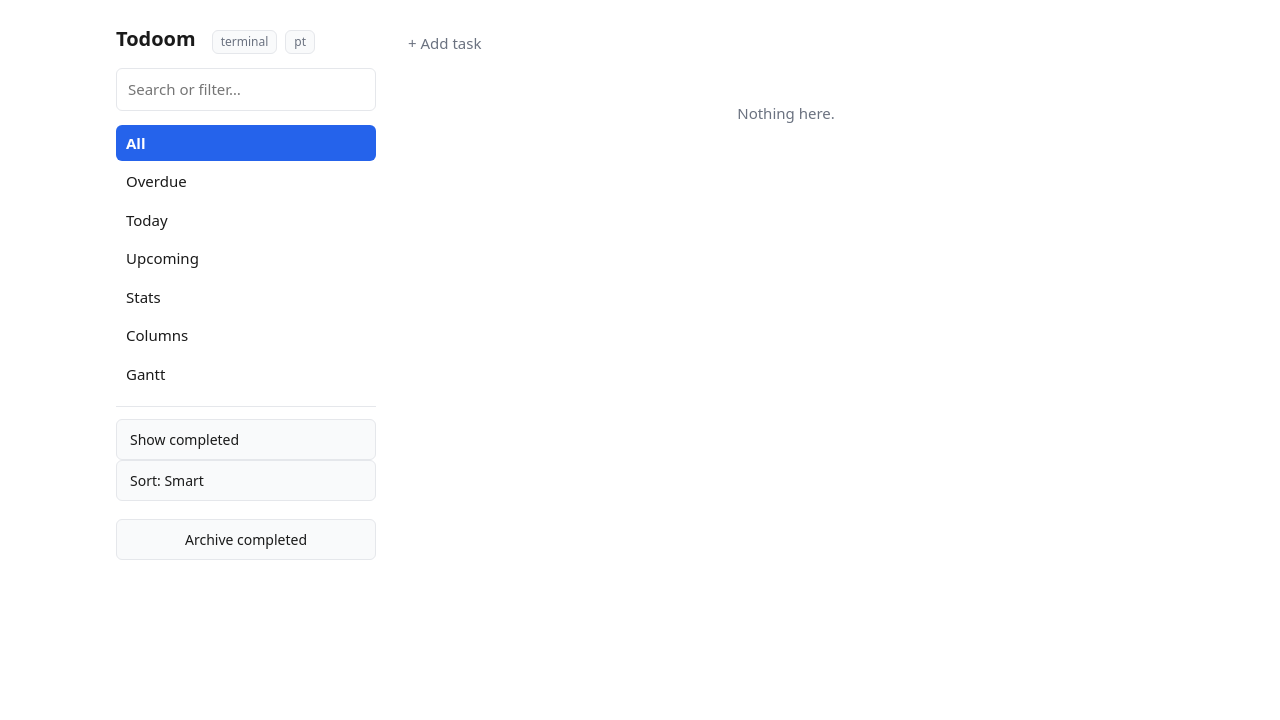
it: App › adds nothing when the modal is dismissed with Escape
Click the button with class "add-task" at (445, 43), box [408,24,1164,62]
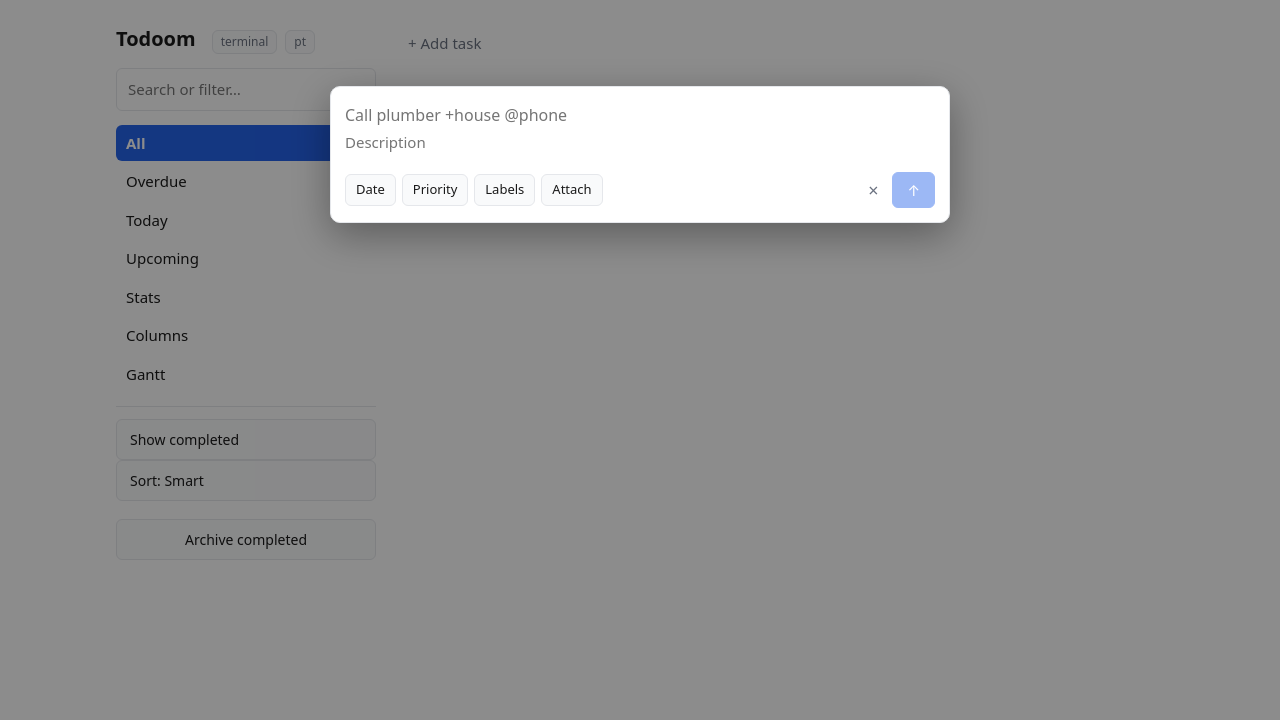
Type "Call plumber" into the field with class "add-input" at (640, 115), box [345,101,935,129]
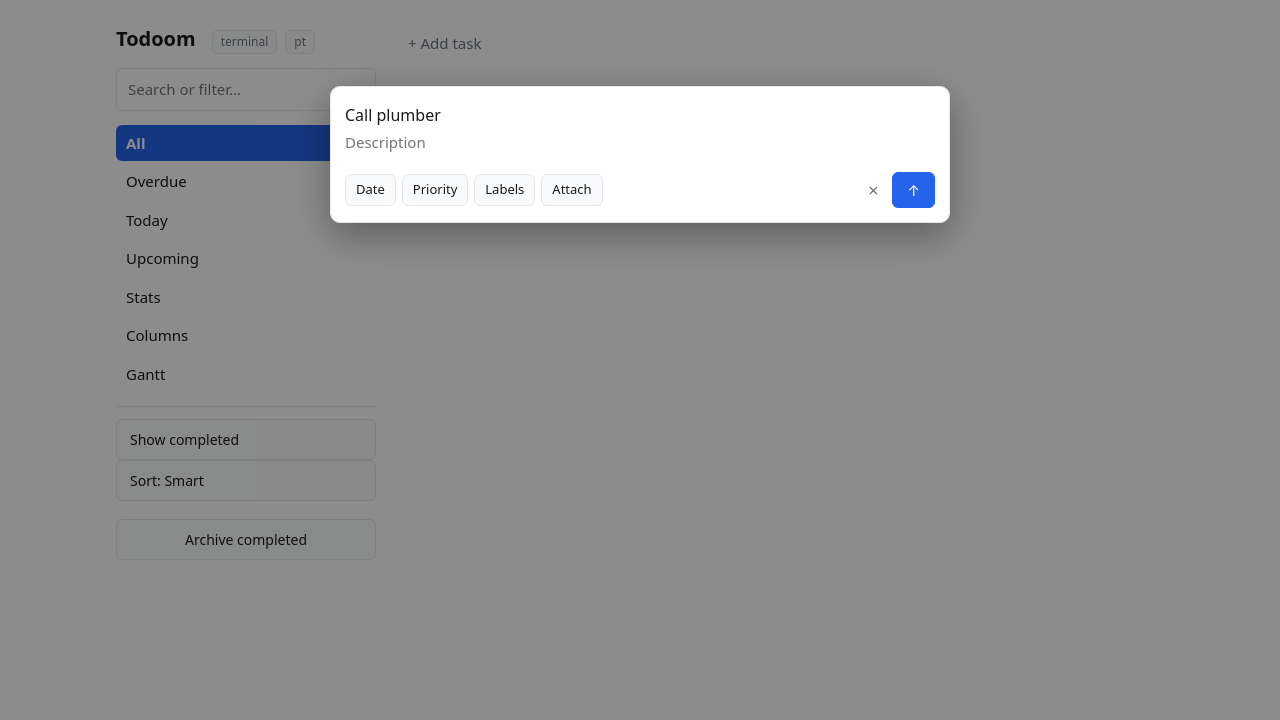
Press Escape in the dialog with class "modal", box [330,86,950,223]
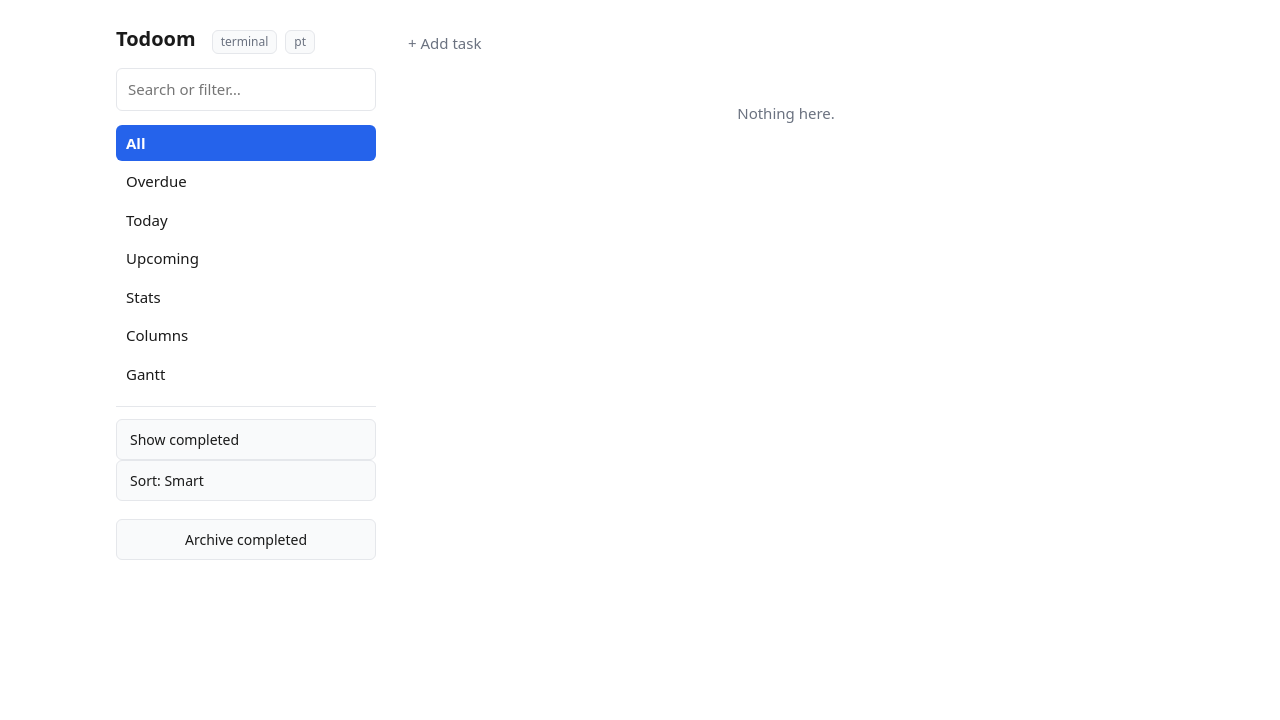
Expected: the dialog with class "modal" is gone
